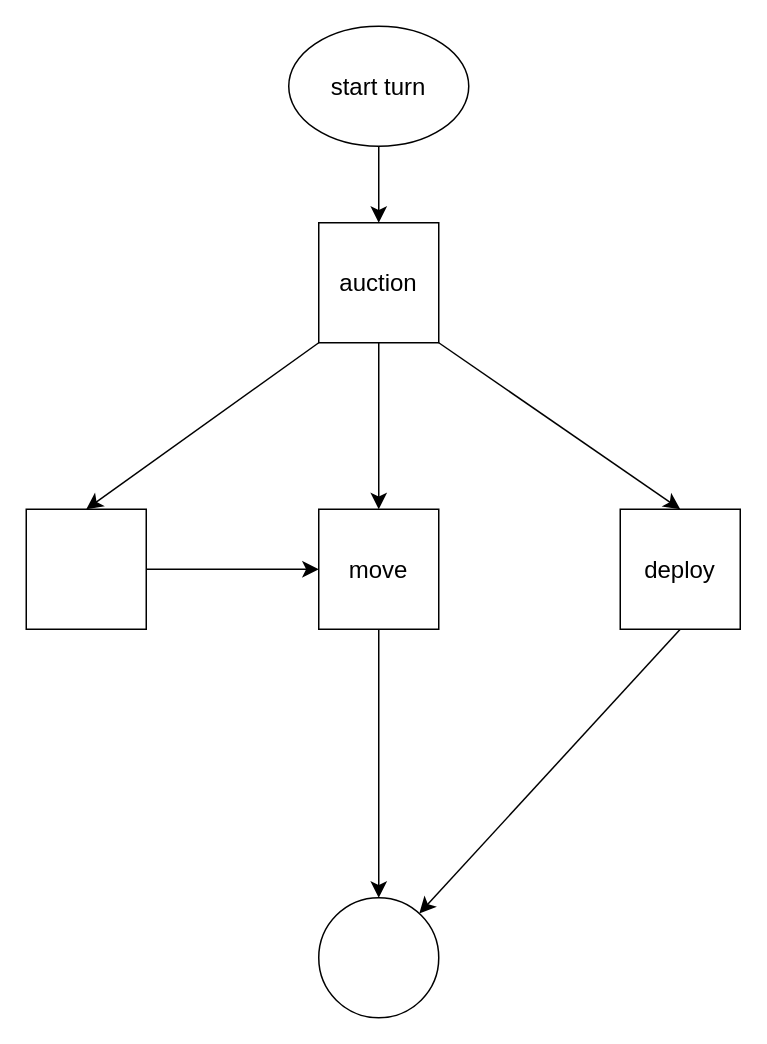
The diagram is 767 pixels wide and 1044 high, and some of its shapes have lost their labels. The centre of each missing label's shape, as x and y in pixels:
"end turn" goes at (x=378, y=957).
"mine" goes at (x=85, y=568).
